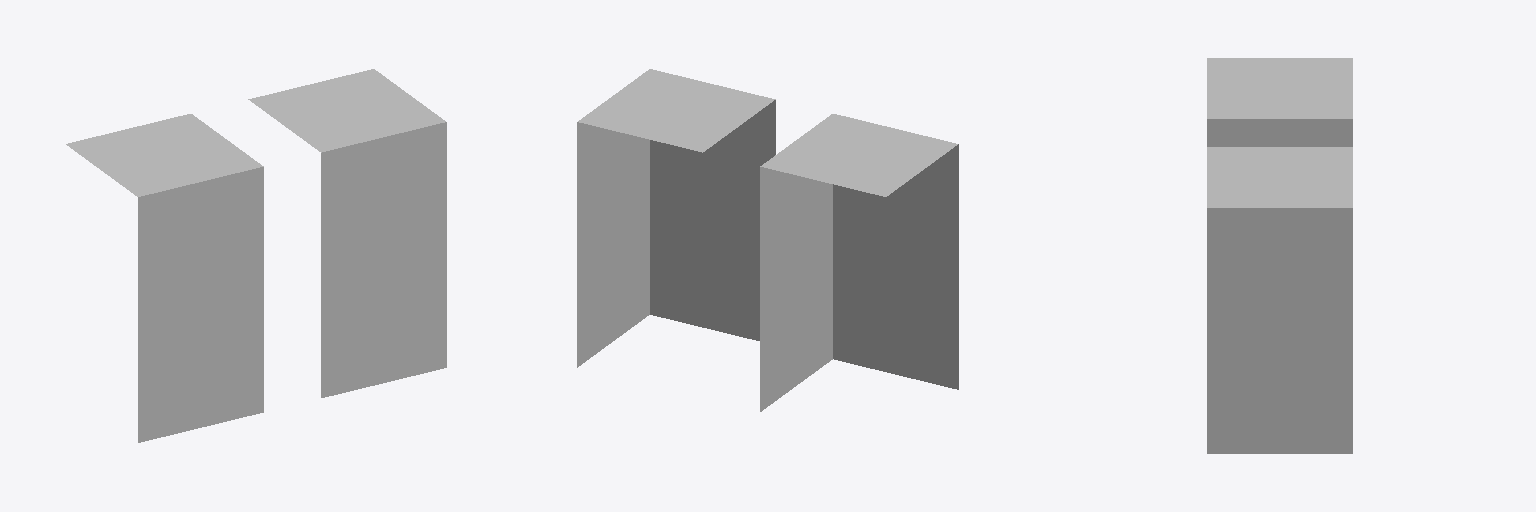
The model's file is anna_office_cabinet.obj.
3 views of the same model, side by side, from view 1: azimuth 30°, elevation 25°; view 2: azimuth 150°, elevation 25°; view 3: azimuth 270°, elevation 25° (orthographic).
Visible parts, largest first — view 1: Cube; view 2: Cube; view 3: Cube.
Part boxes in pixels (bbox=[...]): Cube: bbox=[66, 69, 446, 442]; Cube: bbox=[577, 69, 958, 411]; Cube: bbox=[1207, 58, 1352, 453].
Size of the model in its own units: 2.24 by 1.71 by 0.9139.